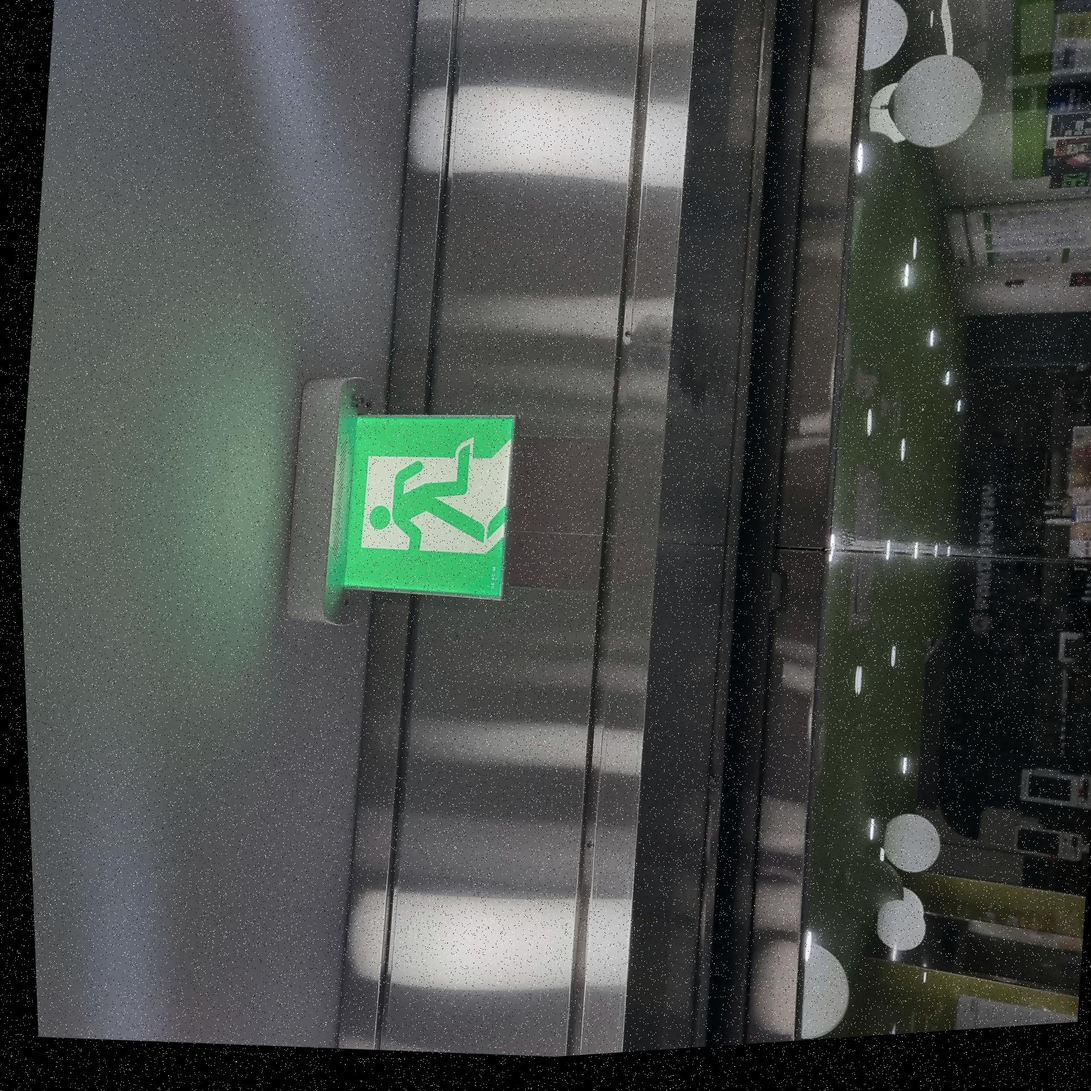emergency_exit: (328, 401, 518, 614)
